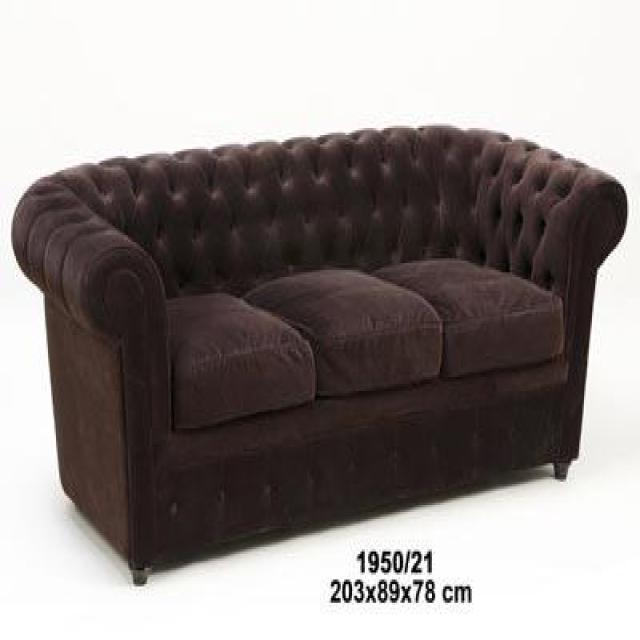sofa: (10, 121, 627, 584)
